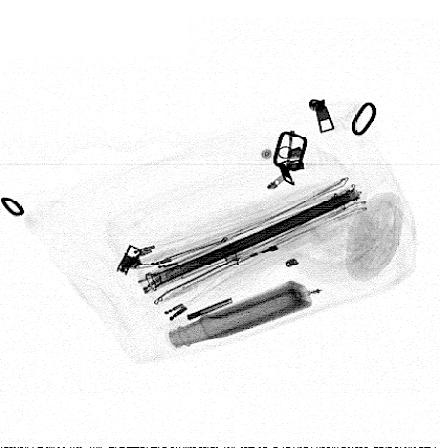Lighter: (223, 233, 281, 269)
